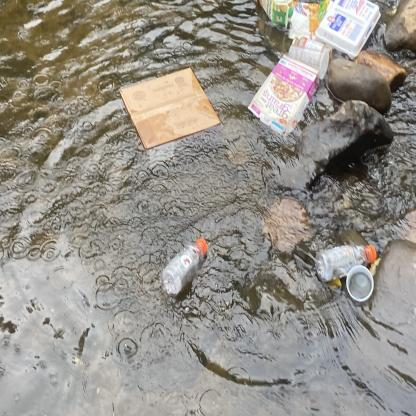trash: (117, 63, 227, 159), (240, 50, 325, 144), (314, 0, 384, 63), (157, 232, 212, 300), (312, 240, 382, 284), (286, 0, 334, 45), (342, 262, 376, 306), (258, 0, 296, 35)
